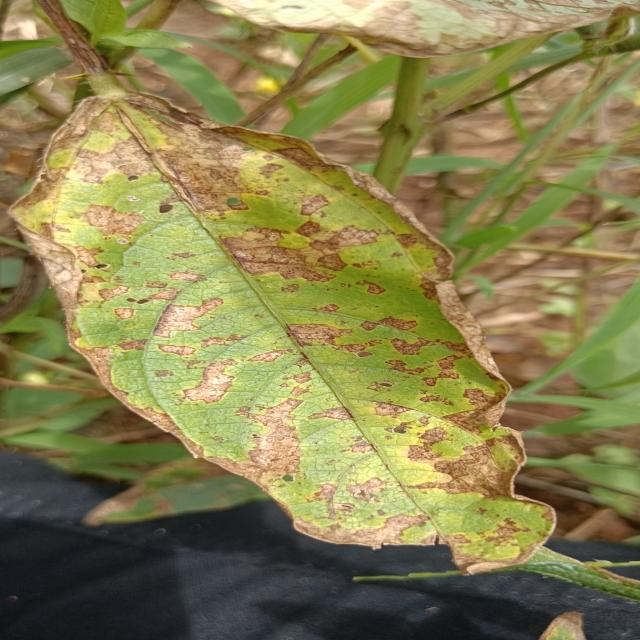Black gram_leaf spot: (0, 83, 585, 585)
